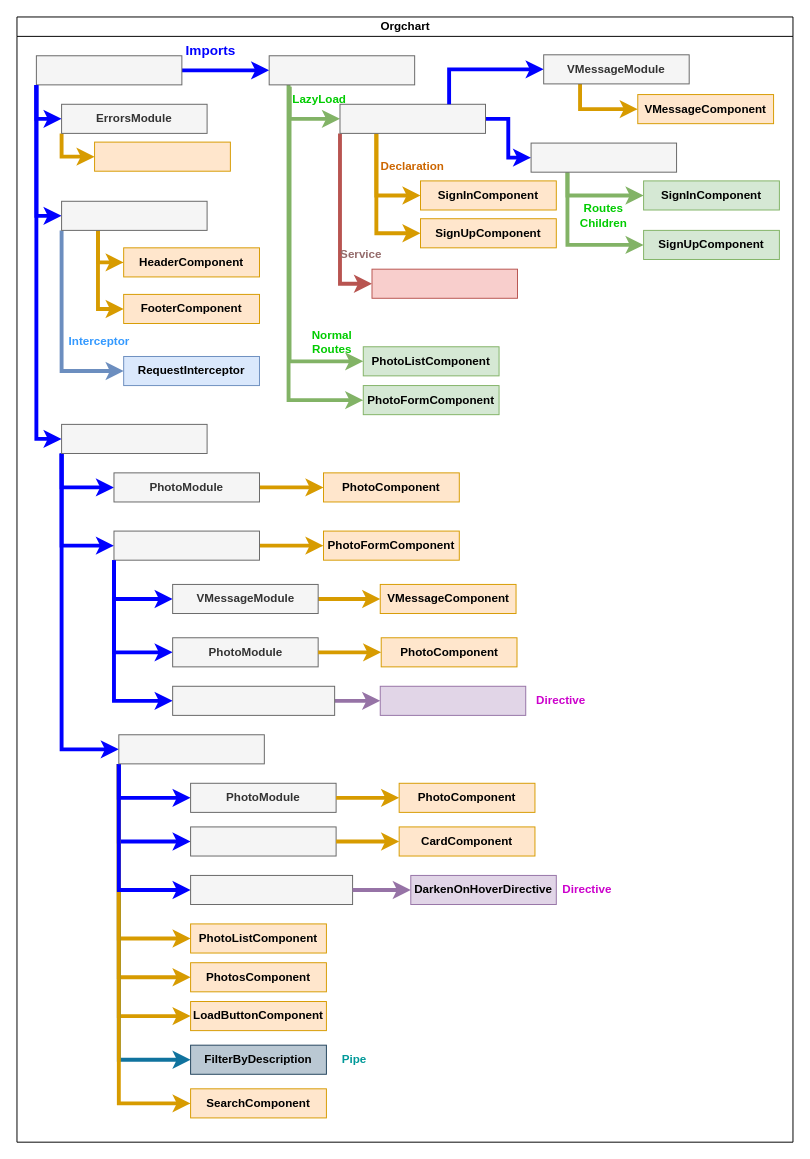
The diagram is 810 pixels wide and 1159 high, and some of its shapes have lost their labels. Each missing label, with the centre of its shape:
AppModule: [108,70]
AppRoutingModule: [341,70]
CardModule: [263,841]
CoreModule: [134,215]
DarkenOnHoverModule: [271,889]
HomeModule: [412,118]
HomeRoutingModule: [603,157]
ImmediateClickDirective: [452,700]
ImmediateClickModule: [253,700]
NotFoundComponent: [162,156]
PhotoFormModule: [186,545]
PhotoListModule: [191,749]
PhotosModule: [134,438]
SignUpService: [444,283]
